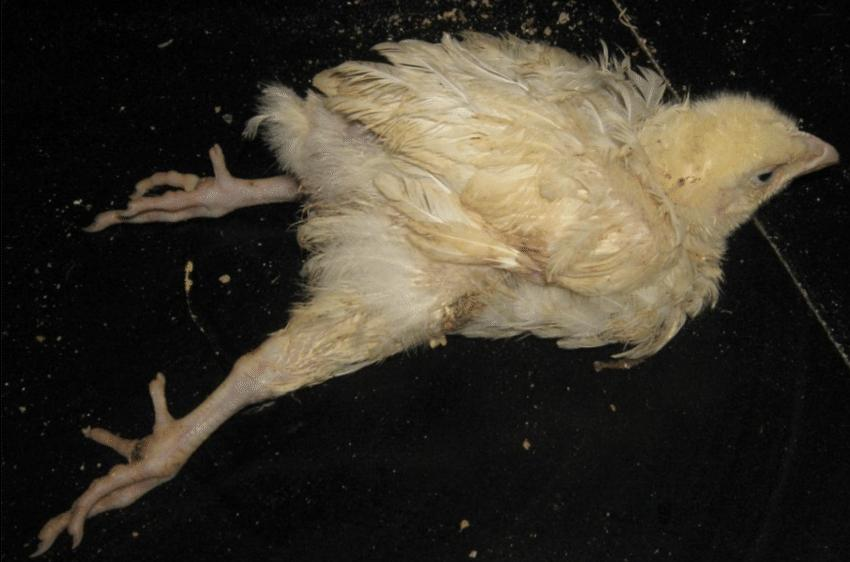AbNormal: (29, 15, 850, 541)
